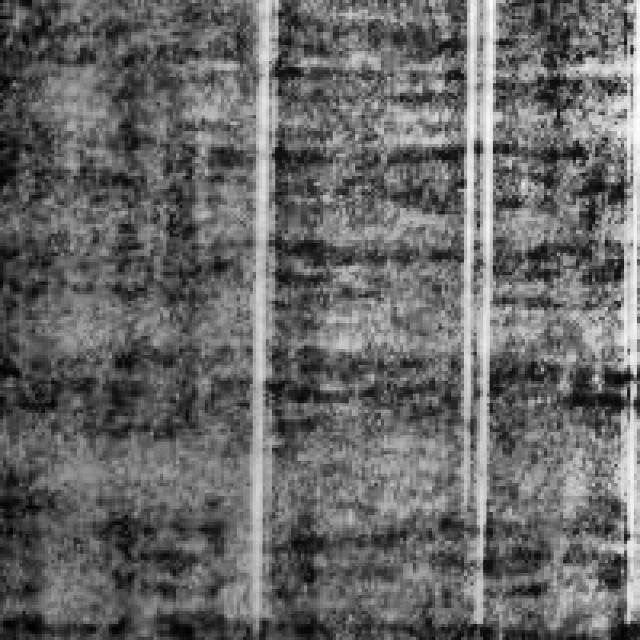Inclusion: (236, 0, 282, 621), (451, 0, 496, 541)
